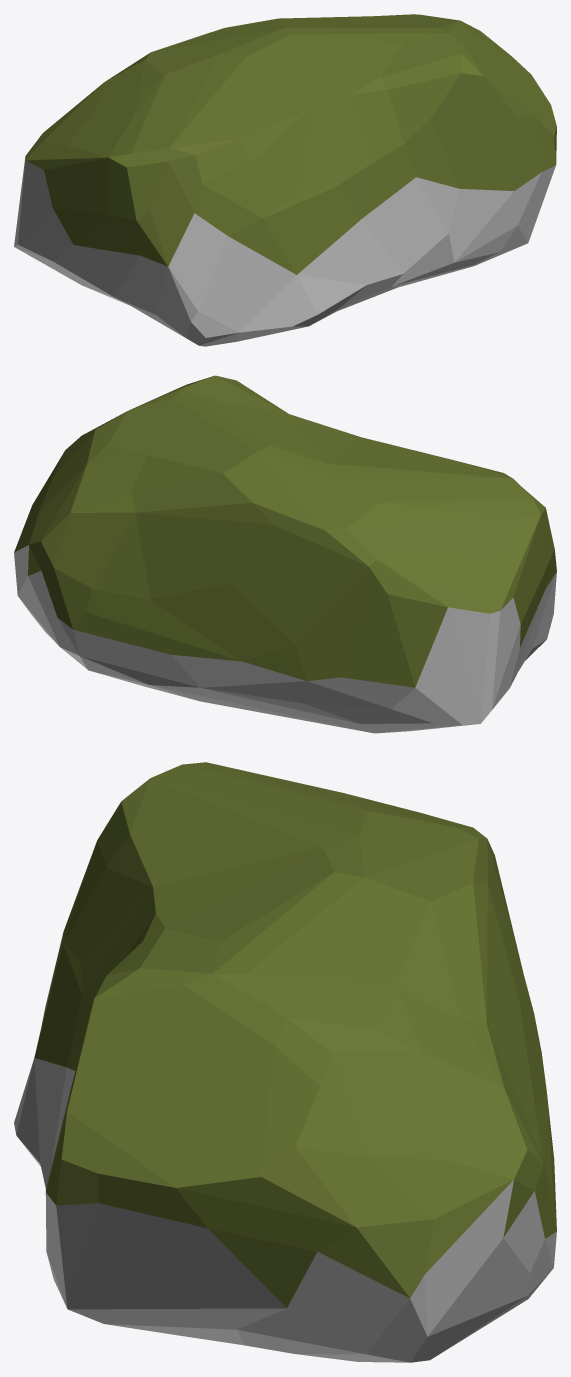
File: Rock_3_mossy.fbx
The picture shows the model from 3 angles, top to bottom: view 1: azimuth 30°, elevation 25°; view 2: azimuth 150°, elevation 25°; view 3: azimuth 270°, elevation 25°; orthographic projection. The views are drawn at different scales.
Parts seen in each view (by area): view 1: Rock_3_mossy; view 2: Rock_3_mossy; view 3: Rock_3_mossy.
Part boxes in pixels (x1,y1,x2,y2): Rock_3_mossy: [14, 14, 556, 346]; Rock_3_mossy: [14, 375, 556, 733]; Rock_3_mossy: [14, 762, 556, 1362].
Bounding box in the file's own units: 49.93 × 23.38 × 30.55.
1 material, 1 textured.
